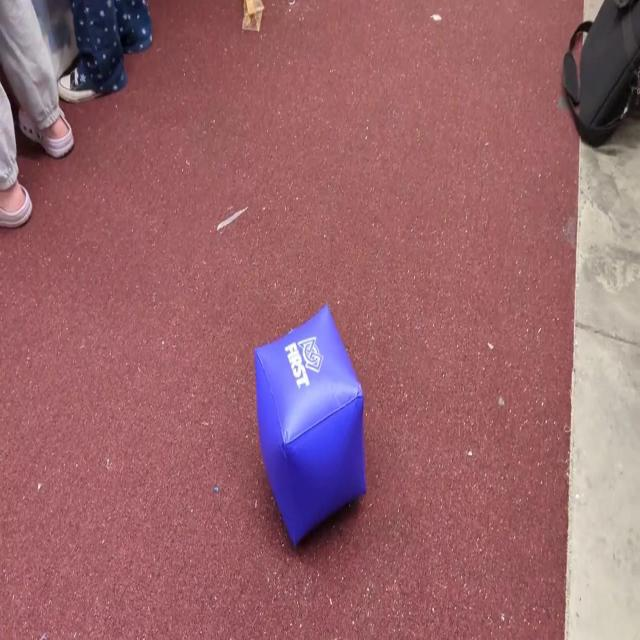frc_cube: (254, 303, 366, 549)
